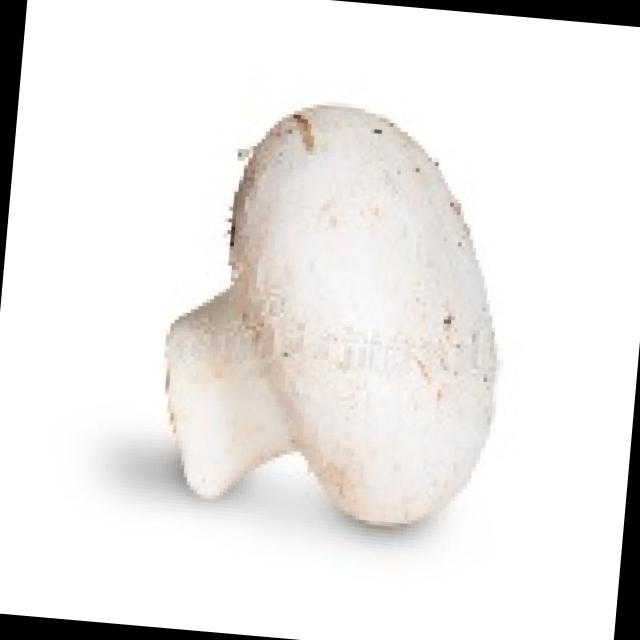mushroom: (138, 72, 530, 558)
